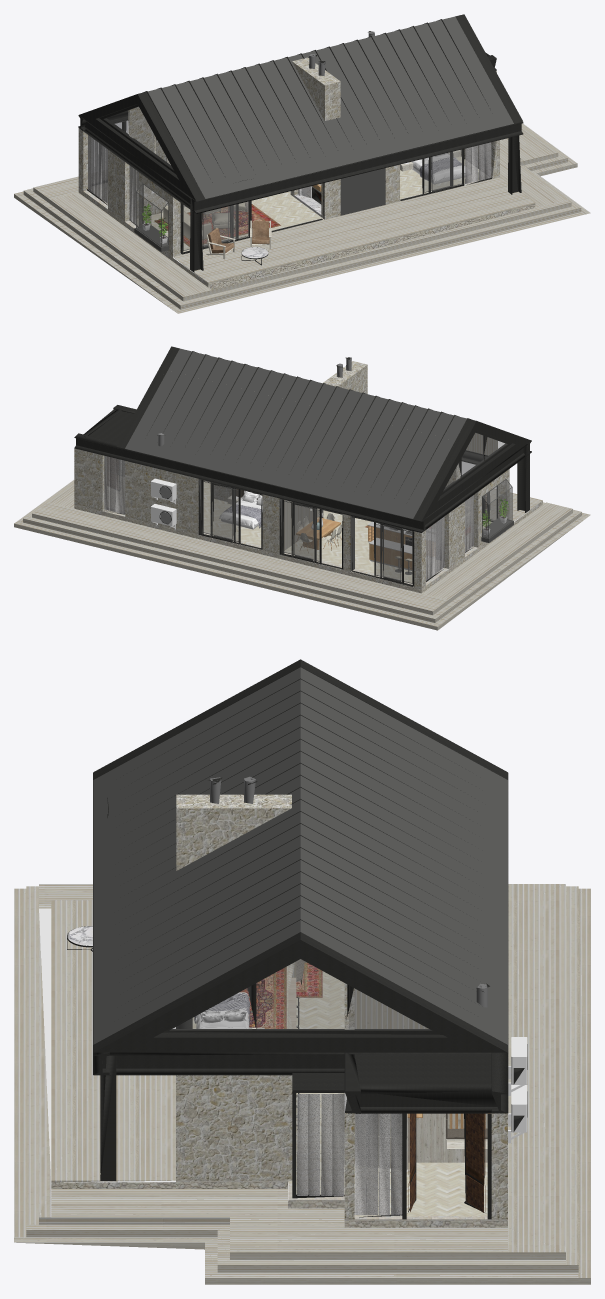
Rendered from cabin-y0.far.glb.
3 views of the same model, one above another, from view 1: azimuth 30°, elevation 25°; view 2: azimuth 150°, elevation 25°; view 3: azimuth 270°, elevation 25° (orthographic). The views are drawn at different scales.
Parts seen in each view (by area): view 1: Material2 (×13), Material3 (×3); view 2: Material2 (×13), Material3; view 3: Material2 (×13), Material3 (×2).
Boxes of the visible parts, left/top/right/bottom form: Material2 (×13): left=14, top=14, right=590, bottom=313; Material3 (×3): left=88, top=135, right=491, bottom=253; Material2 (×13): left=14, top=346, right=590, bottom=630; Material3: left=104, top=456, right=473, bottom=580; Material2 (×13): left=14, top=659, right=590, bottom=1284; Material3 (×2): left=297, top=1093, right=491, bottom=1215.
Size of the model in its own units: 17.46 by 6.04 by 10.94.
Materials: 69 (44 with a texture image).
